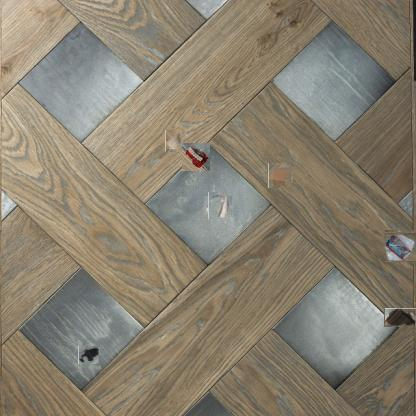dirty: (384, 230, 416, 262), (182, 143, 210, 171), (268, 163, 292, 188), (206, 194, 230, 217), (164, 132, 184, 151)
liquid: (384, 308, 416, 327), (78, 346, 99, 364)
